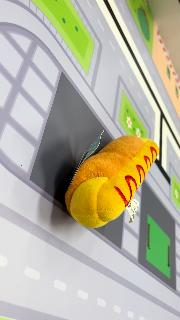hotdog: (64, 134, 160, 230)
